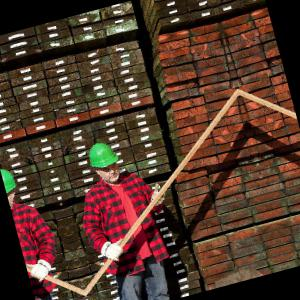helmet: (82, 134, 127, 191), (1, 161, 26, 215)
